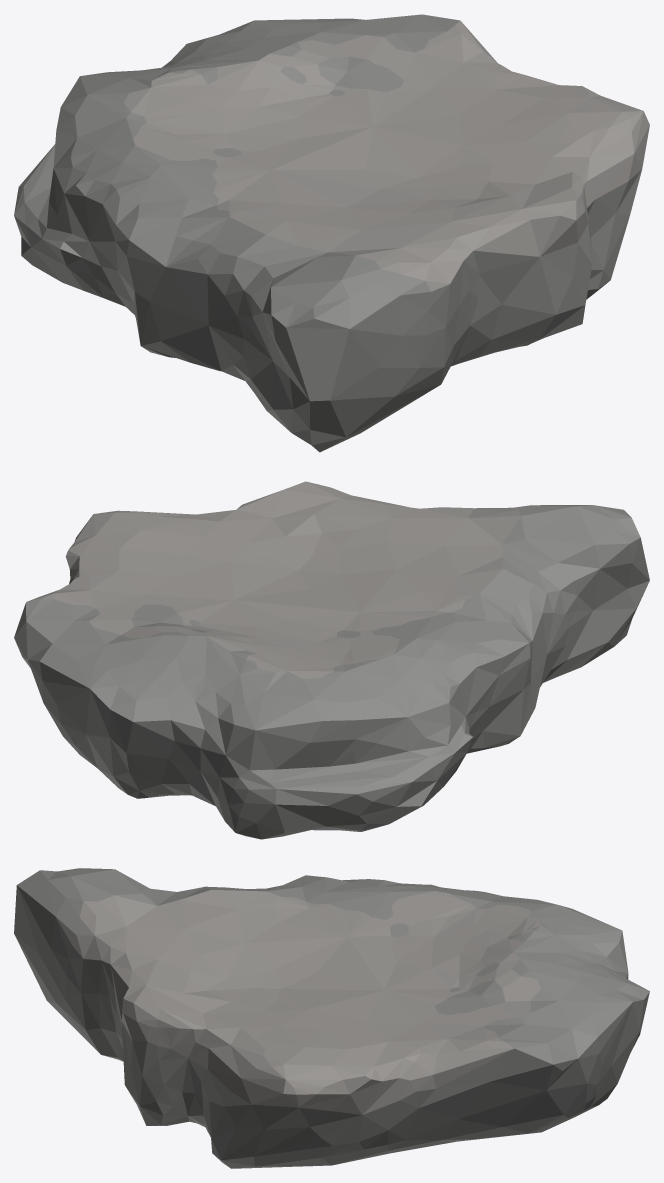
Rendered from Cavern_Floor_Border_Corner-01.fbx.
The picture shows the model from 3 angles, top to bottom: view 1: azimuth 30°, elevation 25°; view 2: azimuth 150°, elevation 25°; view 3: azimuth 270°, elevation 25°; orthographic projection. The views are drawn at different scales.
Parts seen in each view (by area): view 1: Cavern_Floor_Border_Corner-01; view 2: Cavern_Floor_Border_Corner-01; view 3: Cavern_Floor_Border_Corner-01.
Boxes of the visible parts, bbox=[...] form: Cavern_Floor_Border_Corner-01: bbox=[14, 14, 649, 452]; Cavern_Floor_Border_Corner-01: bbox=[14, 481, 649, 839]; Cavern_Floor_Border_Corner-01: bbox=[14, 868, 649, 1168].
Size of the model in its own units: 1703 by 540 by 2075.
Materials: 1 (1 with a texture image).
